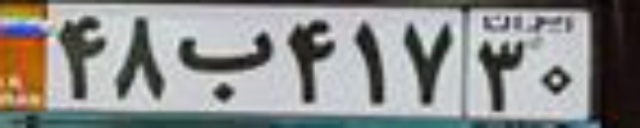0: (537, 62, 577, 95)
1: (350, 18, 390, 104)
3: (478, 38, 524, 112)
4: (55, 14, 106, 100), (287, 18, 337, 104)
7: (403, 21, 461, 105)
8: (112, 14, 165, 99)
be: (176, 29, 273, 104)
